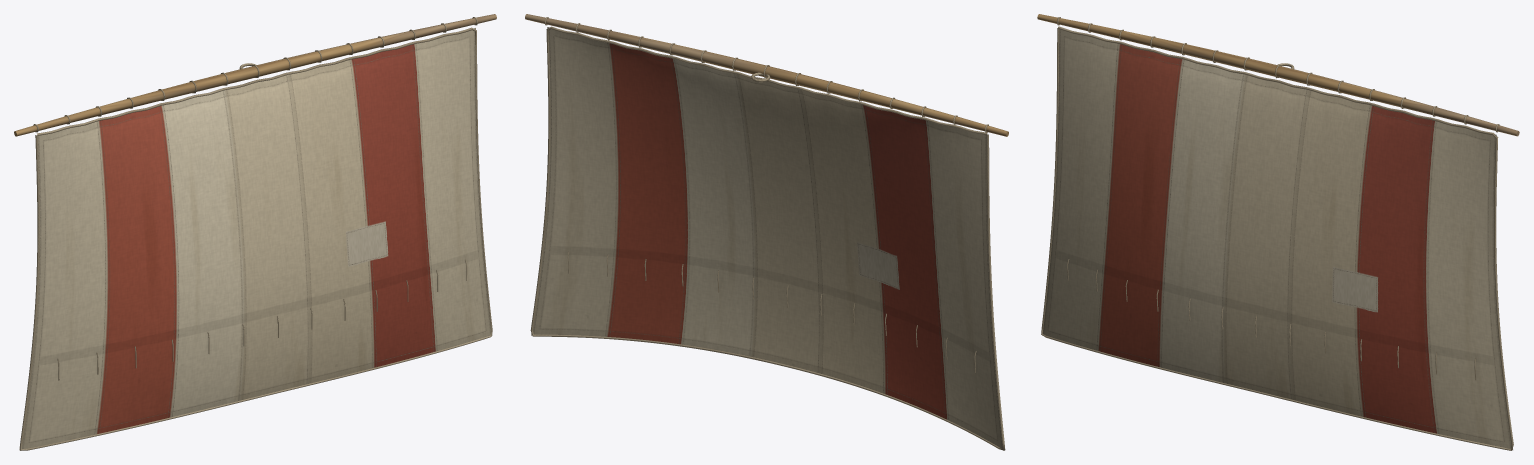
The model's file is DriftBoatSail.gltf.
3 views of the same model, side by side, from view 1: azimuth 30°, elevation 25°; view 2: azimuth 150°, elevation 25°; view 3: azimuth 330°, elevation 25° (orthographic).
Visible parts, largest first — view 1: DriftBoatSail; view 2: DriftBoatSail; view 3: DriftBoatSail.
Part boxes in pixels (x1,y1,x2,y2): DriftBoatSail: (14,14,496,450); DriftBoatSail: (525,14,1008,450); DriftBoatSail: (1037,14,1519,450).
Size of the model in its own units: 4.7 by 3.07 by 0.5793.
Materials: 1 (1 with a texture image).
